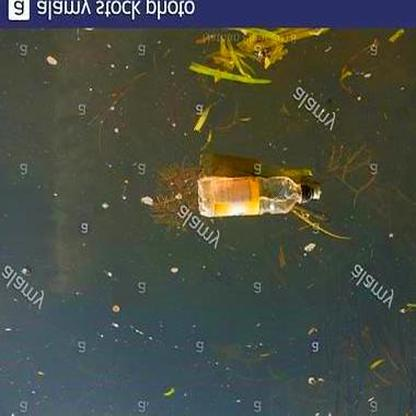plastic bottle: (198, 178, 311, 213)
